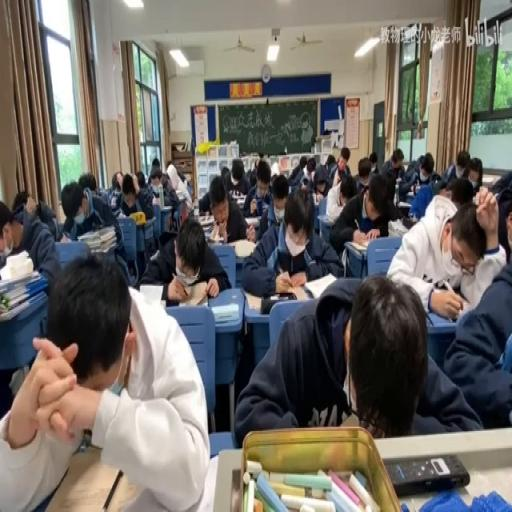calculator: (0, 289, 45, 321), (250, 283, 307, 304), (302, 270, 338, 299), (173, 282, 209, 307), (77, 224, 115, 242), (210, 300, 238, 322), (138, 282, 166, 304), (233, 238, 257, 258), (318, 212, 334, 242), (386, 216, 408, 236), (197, 212, 214, 233), (87, 243, 115, 253), (347, 240, 369, 252), (230, 194, 248, 206), (244, 215, 260, 226), (175, 188, 189, 200), (205, 233, 218, 243), (109, 194, 117, 208), (116, 209, 126, 219), (192, 202, 198, 218), (397, 199, 410, 206), (312, 195, 320, 206), (152, 196, 160, 206), (394, 178, 401, 183)
paper: (3, 250, 208, 509), (233, 269, 477, 442), (386, 184, 504, 318), (240, 184, 342, 294), (138, 209, 226, 294), (60, 176, 130, 279), (330, 168, 400, 257), (0, 195, 59, 296), (145, 160, 181, 230), (396, 150, 431, 196), (306, 162, 333, 201), (224, 156, 250, 196), (242, 184, 269, 218), (446, 176, 475, 206), (381, 162, 400, 201), (286, 153, 308, 185), (489, 169, 512, 199), (466, 158, 482, 190), (340, 174, 356, 204), (10, 188, 29, 213), (121, 173, 137, 202), (77, 171, 96, 195), (0, 202, 13, 237), (325, 148, 341, 176), (254, 162, 270, 189), (357, 158, 372, 186), (454, 154, 468, 176), (175, 166, 187, 190), (390, 152, 404, 172), (98, 186, 112, 204), (368, 151, 378, 175), (110, 170, 121, 190), (135, 171, 146, 189), (438, 186, 452, 199), (270, 160, 280, 178), (248, 168, 258, 185), (445, 164, 455, 180), (340, 148, 350, 163), (430, 170, 440, 184), (302, 175, 312, 189), (221, 164, 230, 179), (151, 156, 160, 168), (308, 158, 314, 173), (416, 155, 422, 169)
person: (386, 452, 470, 494)
